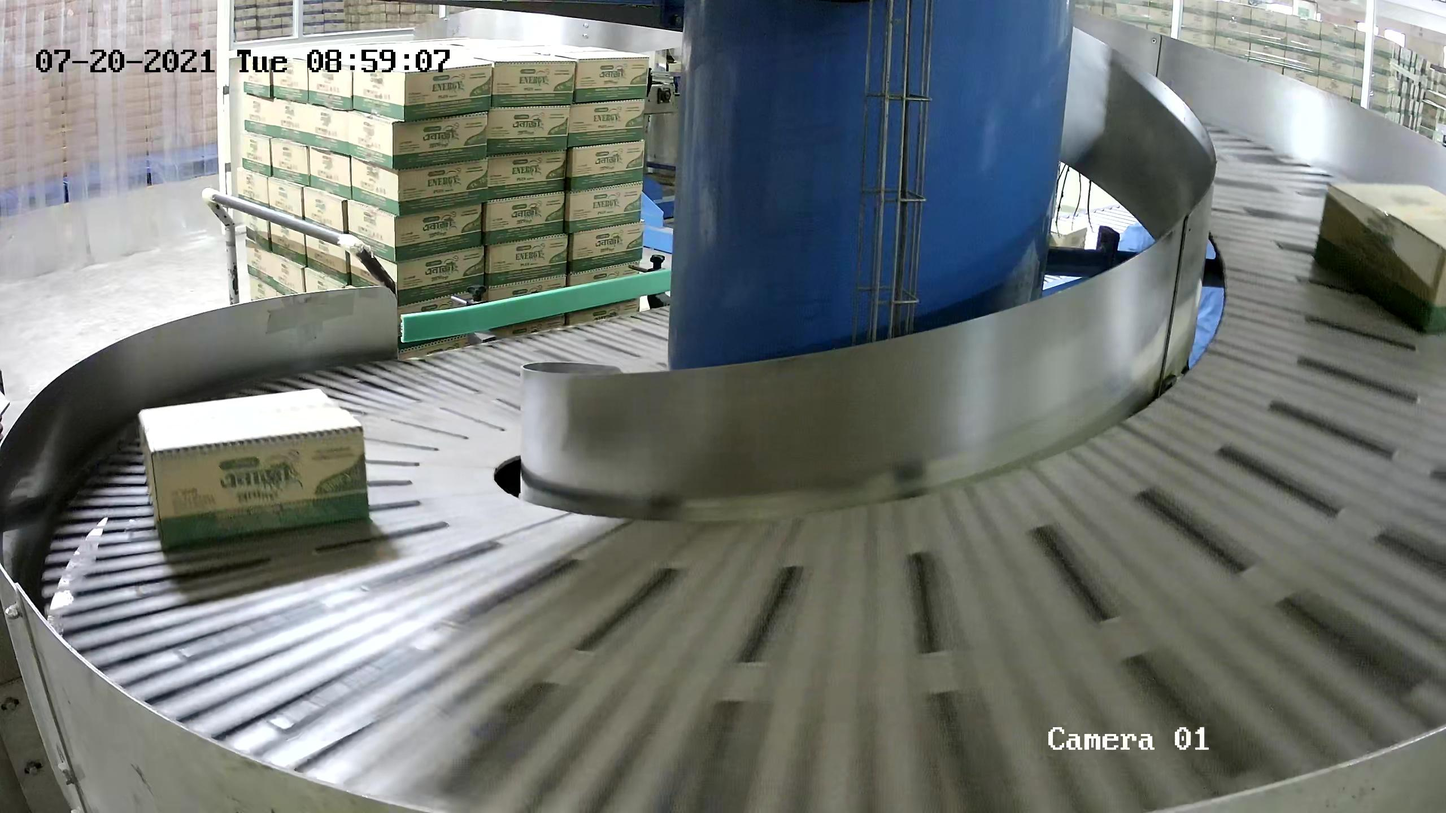Box: (137, 389, 370, 551), (1311, 182, 1446, 336)
